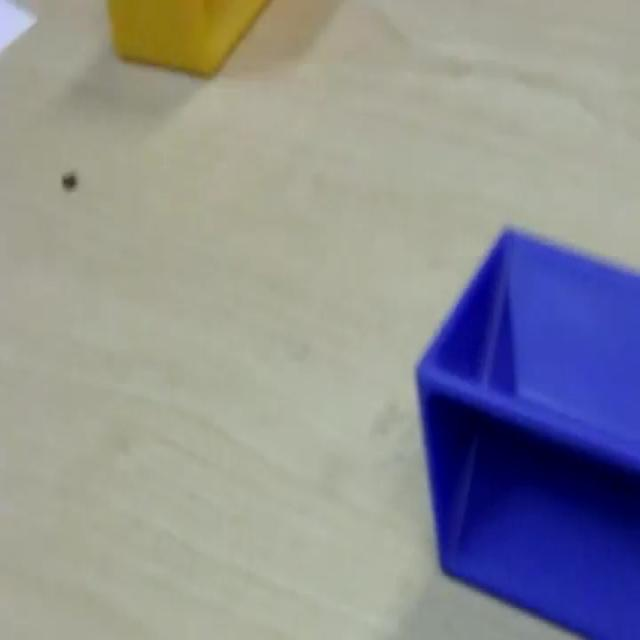blue_block: (414, 221, 638, 636)
yellow_block: (106, 0, 271, 77)
